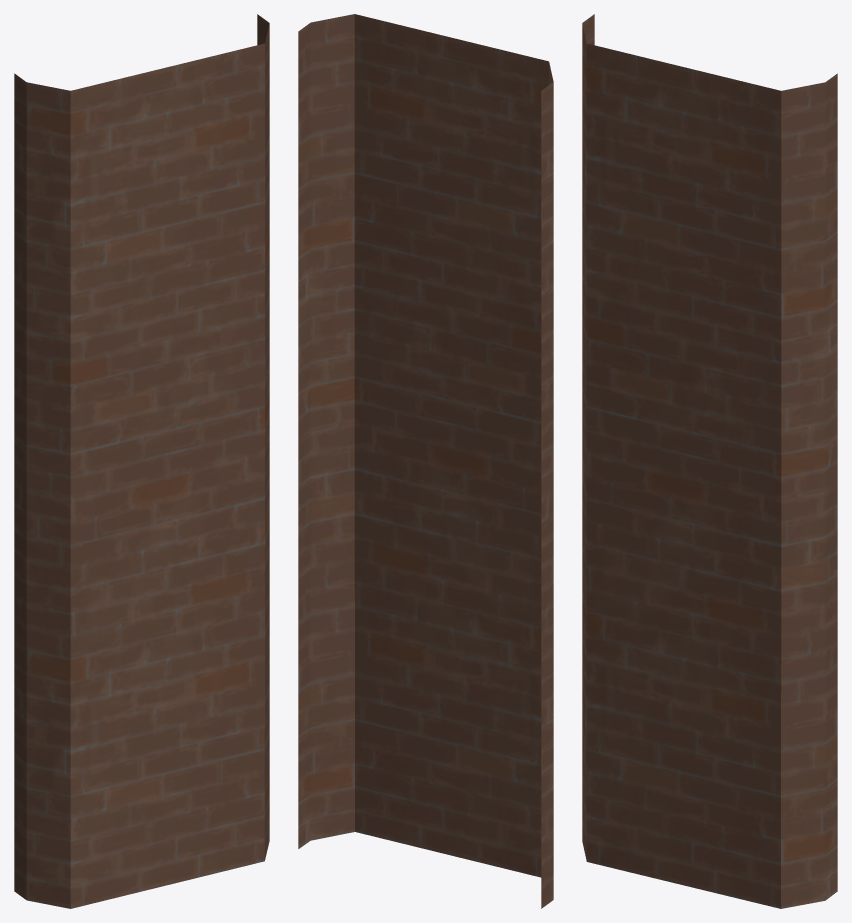
Rendered from brick_halfcolumn_center.glb.
The picture shows the model from 3 angles, left to right: view 1: azimuth 30°, elevation 25°; view 2: azimuth 150°, elevation 25°; view 3: azimuth 330°, elevation 25°; orthographic projection.
Parts seen in each view (by area): view 1: Brick_HalfColumn_Center; view 2: Brick_HalfColumn_Center; view 3: Brick_HalfColumn_Center.
Part boxes in pixels (left/top/right/bottom): Brick_HalfColumn_Center: left=14, top=14, right=269, bottom=908; Brick_HalfColumn_Center: left=298, top=14, right=553, bottom=908; Brick_HalfColumn_Center: left=582, top=14, right=837, bottom=908.
Bounding box in the file's own units: 0.9323 × 3 × 0.2132.
Materials: 1 (1 with a texture image).
